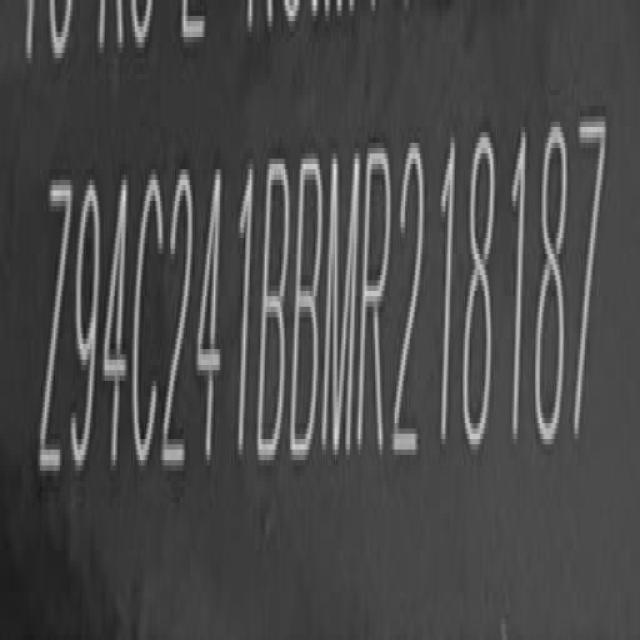1: (506, 120, 531, 453), (229, 157, 255, 474), (434, 130, 459, 456)
2: (394, 144, 429, 467), (163, 170, 197, 486)
4: (99, 173, 134, 482), (196, 162, 229, 478)
7: (572, 106, 612, 448)
8: (459, 130, 498, 459), (535, 112, 572, 449)
9: (70, 181, 102, 488)
B: (255, 150, 293, 470), (292, 147, 328, 470)
C: (131, 172, 168, 484)
M: (321, 144, 363, 471)
R: (357, 140, 395, 466)
Z: (37, 171, 73, 492)
